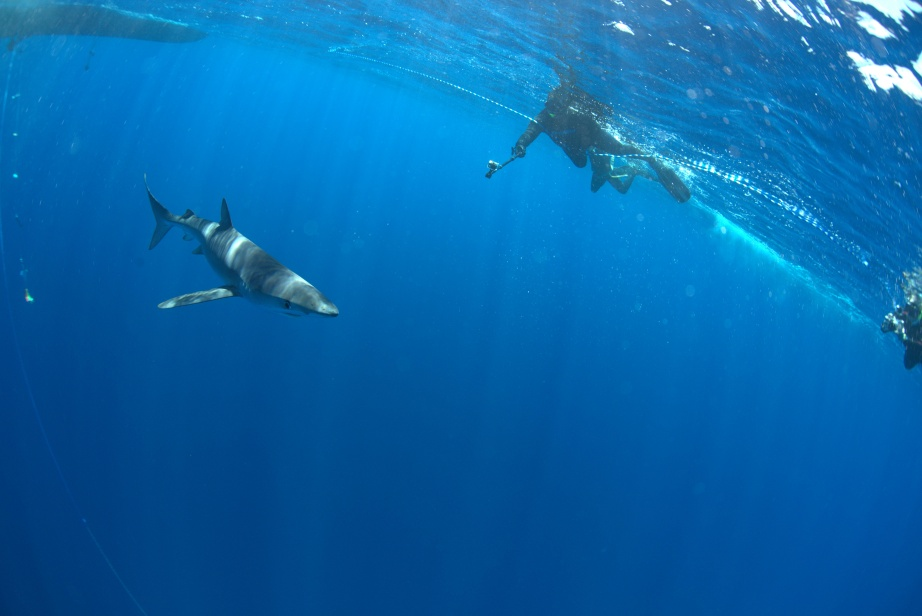Azul: (113, 157, 359, 333)
